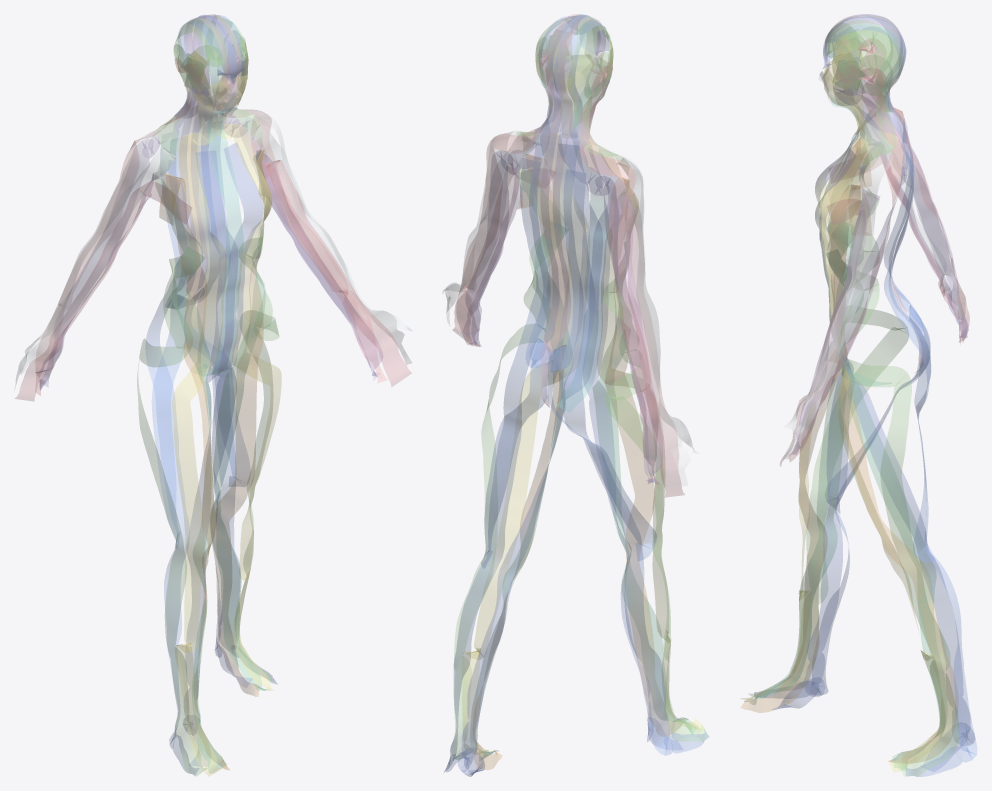
Rendered from skin-zones-female.glb.
3 views of the same model, side by side, from view 1: azimuth 30°, elevation 25°; view 2: azimuth 150°, elevation 25°; view 3: azimuth 270°, elevation 25° (orthographic). The views are drawn at different scales.
Parts seen in each view (by area): view 1: ST:R computed skin zone, BL:R computed skin zone, GB:R computed skin zone, BL:L computed skin zone, SP:L computed skin zone, KI:R computed skin zone, ST:L computed skin zone, LR:L computed skin zone, KI:L computed skin zone, SP:R computed skin zone, GB:L computed skin zone, LR:R computed skin zone (+14 smaller); view 2: BL:R computed skin zone, BL:L computed skin zone, ST:L computed skin zone, GB:R computed skin zone, KI:L computed skin zone, GV:M computed skin zone, GB:L computed skin zone, SP:R computed skin zone, TE:R computed skin zone, KI:R computed skin zone, ST:R computed skin zone, LR:R computed skin zone (+14 smaller); view 3: GB:L computed skin zone, SP:L computed skin zone, BL:L computed skin zone, GB:R computed skin zone, KI:L computed skin zone, SP:R computed skin zone, KI:R computed skin zone, ST:L computed skin zone, LI:L computed skin zone, LR:R computed skin zone, LR:L computed skin zone, BL:R computed skin zone (+14 smaller).
Boxes of the visible parts, x1,y1,x2,y2 form: ST:R computed skin zone: [172, 51, 229, 776]; BL:R computed skin zone: [146, 15, 236, 775]; GB:R computed skin zone: [137, 18, 226, 776]; BL:L computed skin zone: [190, 15, 277, 684]; SP:L computed skin zone: [213, 149, 271, 696]; KI:R computed skin zone: [183, 151, 237, 766]; ST:L computed skin zone: [215, 42, 281, 690]; LR:L computed skin zone: [213, 229, 267, 690]; KI:L computed skin zone: [211, 143, 263, 687]; SP:R computed skin zone: [159, 173, 229, 770]; GB:L computed skin zone: [209, 14, 279, 683]; LR:R computed skin zone: [172, 246, 226, 773]; BL:R computed skin zone: [548, 15, 708, 755]; BL:L computed skin zone: [444, 15, 596, 772]; ST:L computed skin zone: [462, 32, 593, 754]; GB:R computed skin zone: [567, 16, 708, 742]; KI:L computed skin zone: [458, 155, 601, 776]; GV:M computed skin zone: [540, 14, 605, 407]; GB:L computed skin zone: [451, 14, 582, 759]; SP:R computed skin zone: [605, 178, 688, 736]; TE:R computed skin zone: [579, 56, 659, 489]; KI:R computed skin zone: [584, 153, 682, 749]; ST:R computed skin zone: [589, 42, 705, 731]; LR:R computed skin zone: [592, 241, 698, 734]; GB:L computed skin zone: [825, 20, 959, 776]; SP:L computed skin zone: [828, 184, 956, 762]; BL:L computed skin zone: [823, 17, 977, 776]; GB:R computed skin zone: [749, 15, 908, 697]; KI:L computed skin zone: [815, 149, 974, 771]; SP:R computed skin zone: [740, 138, 871, 712]; KI:R computed skin zone: [772, 139, 853, 709]; ST:L computed skin zone: [815, 51, 945, 772]; LI:L computed skin zone: [783, 72, 892, 458]; LR:R computed skin zone: [744, 221, 863, 704]; LR:L computed skin zone: [826, 249, 945, 769]; BL:R computed skin zone: [754, 14, 930, 698].
Size of the model in its own units: 81.63 by 174 by 52.46.
